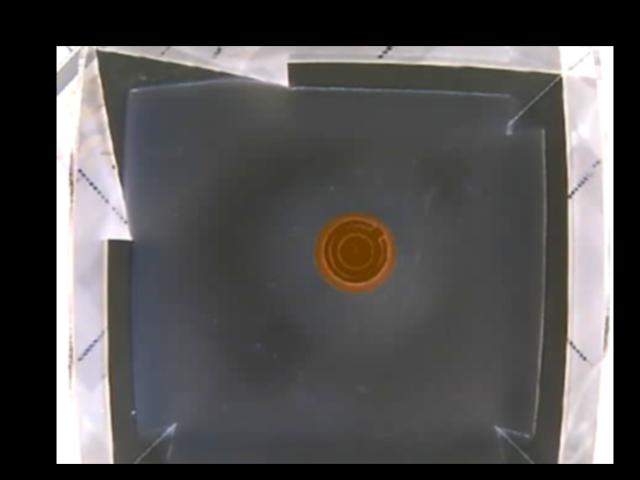Cup: (314, 215, 394, 289)
